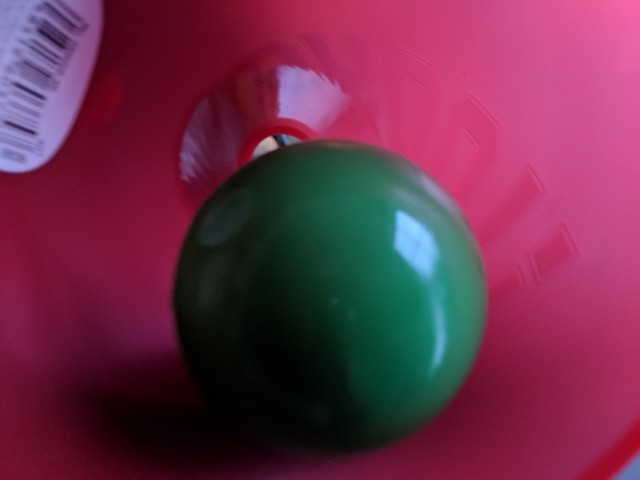ball: (170, 139, 490, 455)
